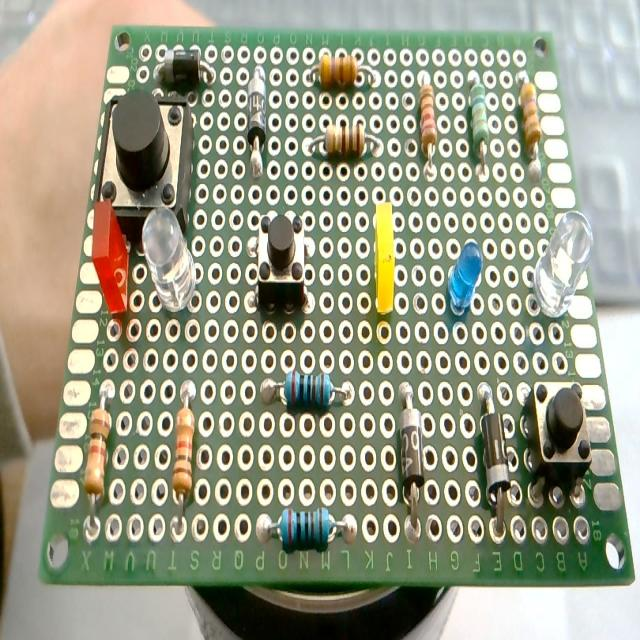diode: (478, 382, 512, 529), (396, 382, 426, 534), (246, 64, 267, 178), (156, 46, 207, 90)
led: (532, 208, 594, 318), (142, 206, 196, 314), (91, 197, 130, 317), (448, 240, 483, 316), (374, 199, 394, 319)
resistor: (83, 381, 113, 530), (256, 508, 358, 551), (171, 382, 198, 533), (261, 371, 351, 411), (307, 123, 383, 164), (417, 76, 439, 177), (469, 79, 489, 173), (519, 78, 541, 152), (318, 50, 360, 87)
switch: (95, 90, 193, 250), (522, 380, 592, 498), (253, 210, 310, 314)
